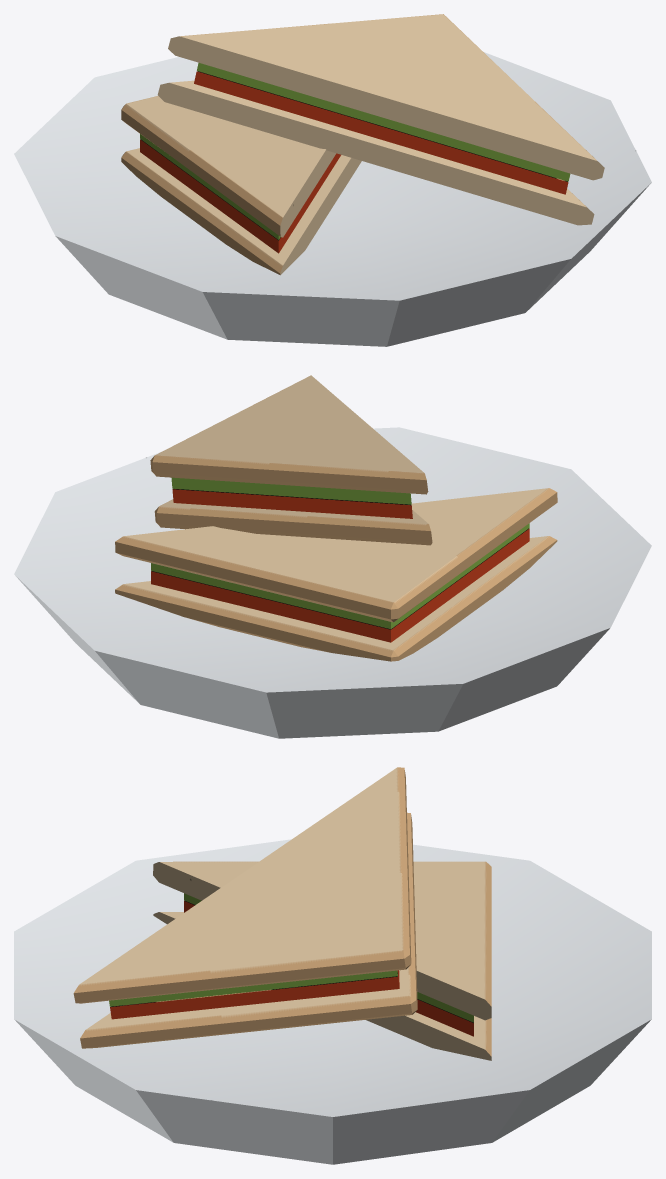
Rendered from sandwich.fbx.
The picture shows the model from 3 angles, top to bottom: view 1: azimuth 30°, elevation 25°; view 2: azimuth 150°, elevation 25°; view 3: azimuth 270°, elevation 25°; orthographic projection. The views are drawn at different scales.
Parts seen in each view (by area): view 1: egg mayo sandwich.001; view 2: egg mayo sandwich.001; view 3: egg mayo sandwich.001.
Part boxes in pixels (box(x1,y1,x2,y2)): egg mayo sandwich.001: box(14, 14, 651, 346); egg mayo sandwich.001: box(14, 375, 651, 738); egg mayo sandwich.001: box(14, 767, 651, 1164).
Bounding box in the file's own units: 42.04 × 15.25 × 39.98.
Materials: 1 (1 with a texture image).
